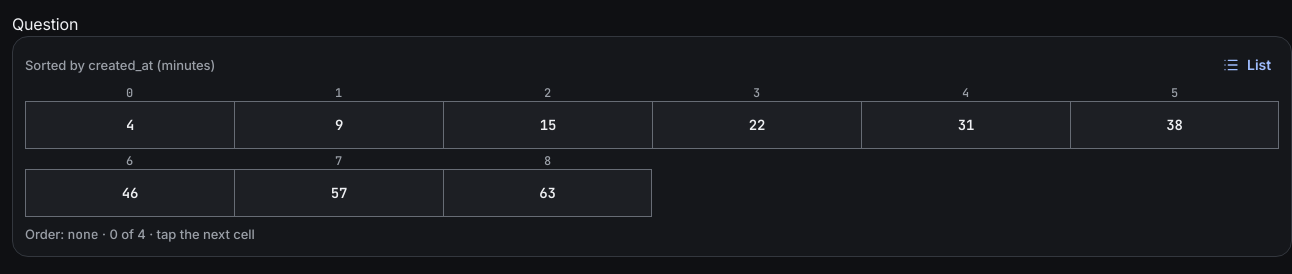
it: TraceCanvas · arrays › order mode on a 9-cell array: probes in order
What coordinates should you click on to do the following:
click the button "31"
I would click on:
 (966, 125)
Its box is [861, 101, 1070, 149].
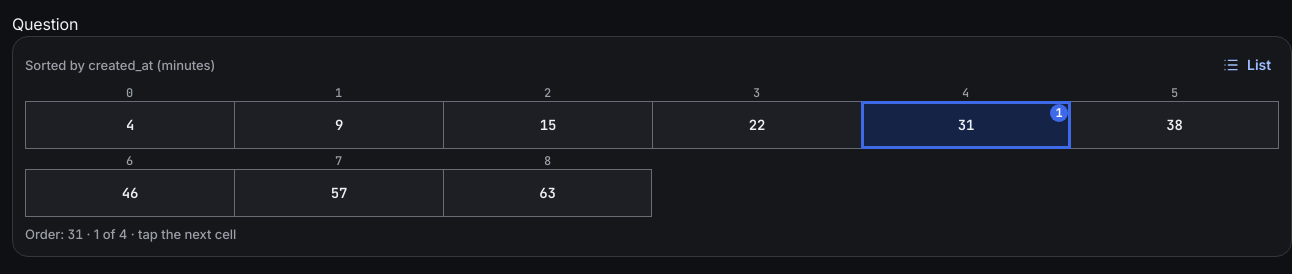
What coordinates should you click on to do the following:
click the button "9"
I would click on:
 (338, 125)
Its box is [234, 101, 443, 149].
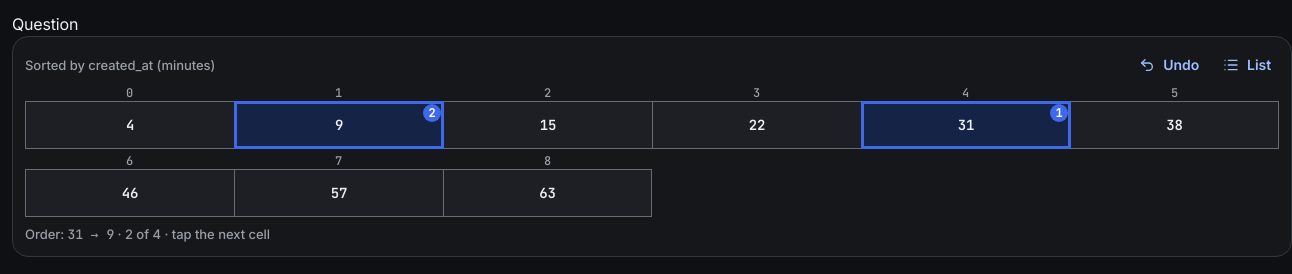
expect the element showing "Order: 31 → 9 · 2 of 4 · tap the next cell" is shown: met, box [25, 226, 270, 243]
